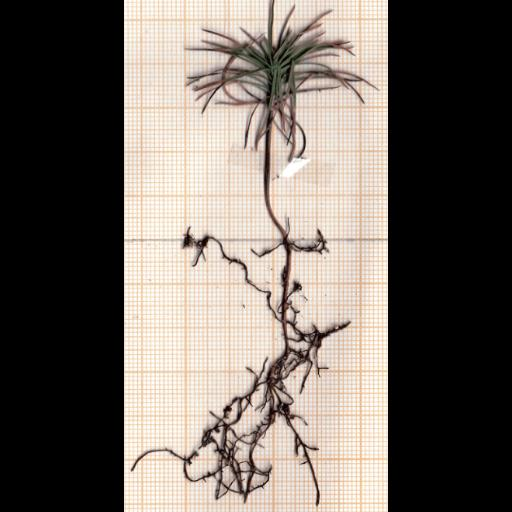flowerCedr: (187, 1, 377, 156)
rootCedr: (181, 227, 349, 504)
stemCedr: (263, 122, 287, 238)
